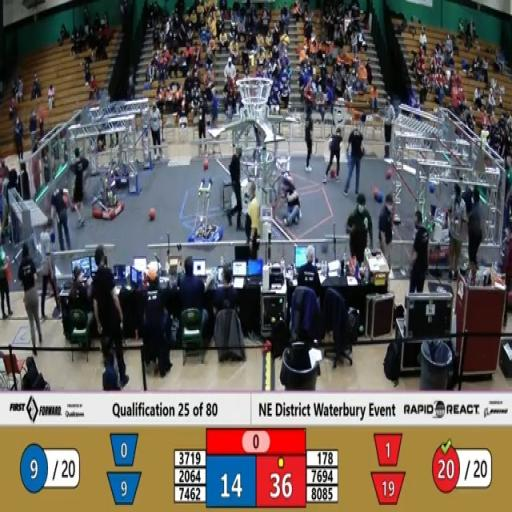robot: (185, 170, 225, 252), (420, 202, 466, 272), (87, 161, 127, 223), (105, 124, 138, 192), (264, 140, 300, 194)
